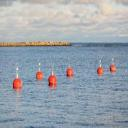red: (13, 78, 22, 88), (48, 76, 56, 84), (36, 72, 43, 80), (66, 69, 74, 76), (98, 67, 104, 74), (110, 65, 116, 71)
